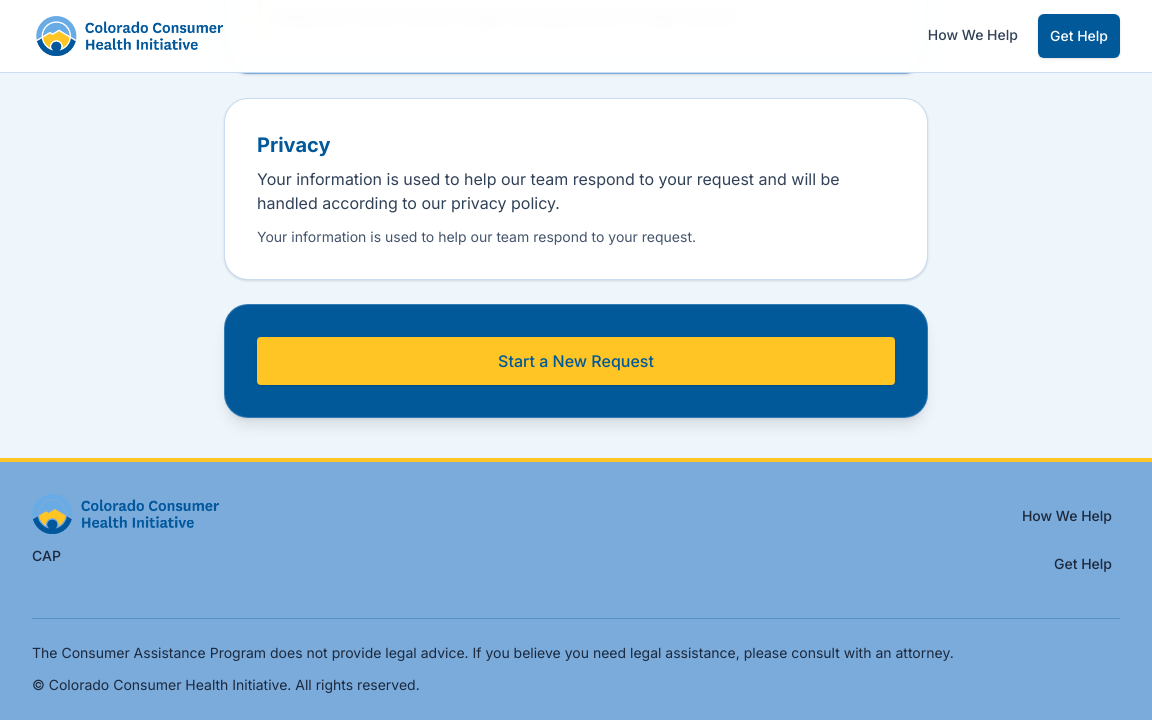
Test: App shell › shows the intake landing page guidance before starting a request
The image size is (1152, 720).
(page scrolled)
Step 1. Click the button "Start a New Request" → point(576, 361), box [257,337,895,385]
(page scrolled)
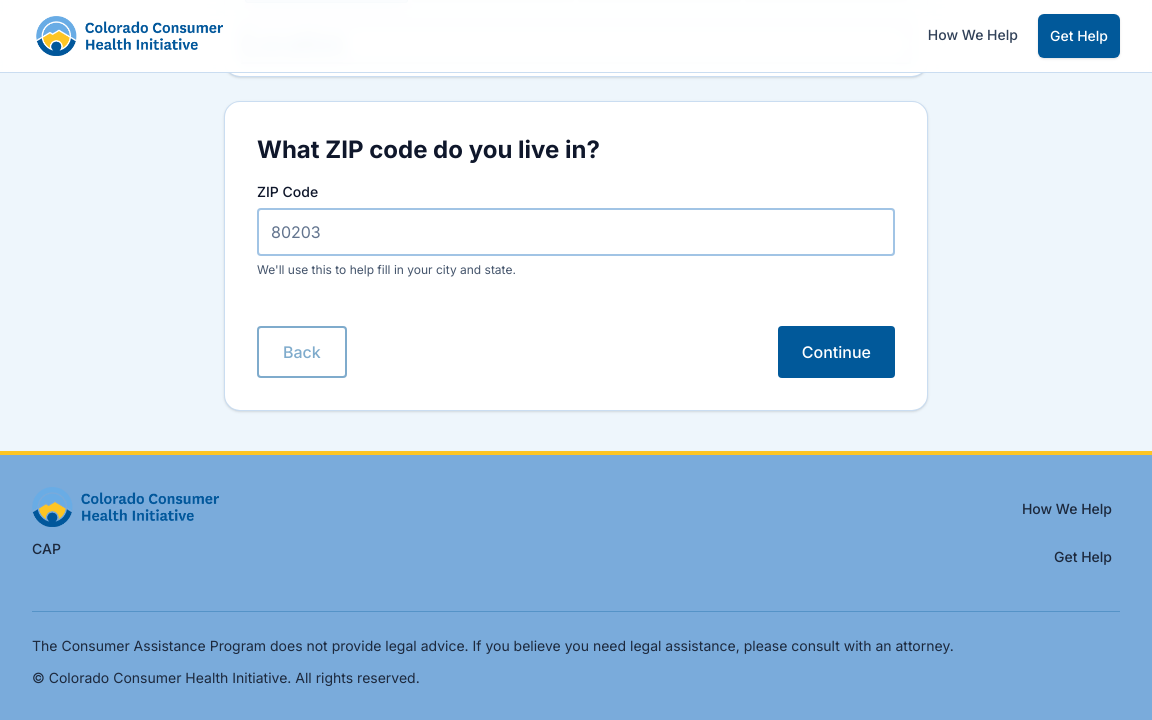
Now the heading "What ZIP code do you live in?" is shown, box [257,135,600,164]
